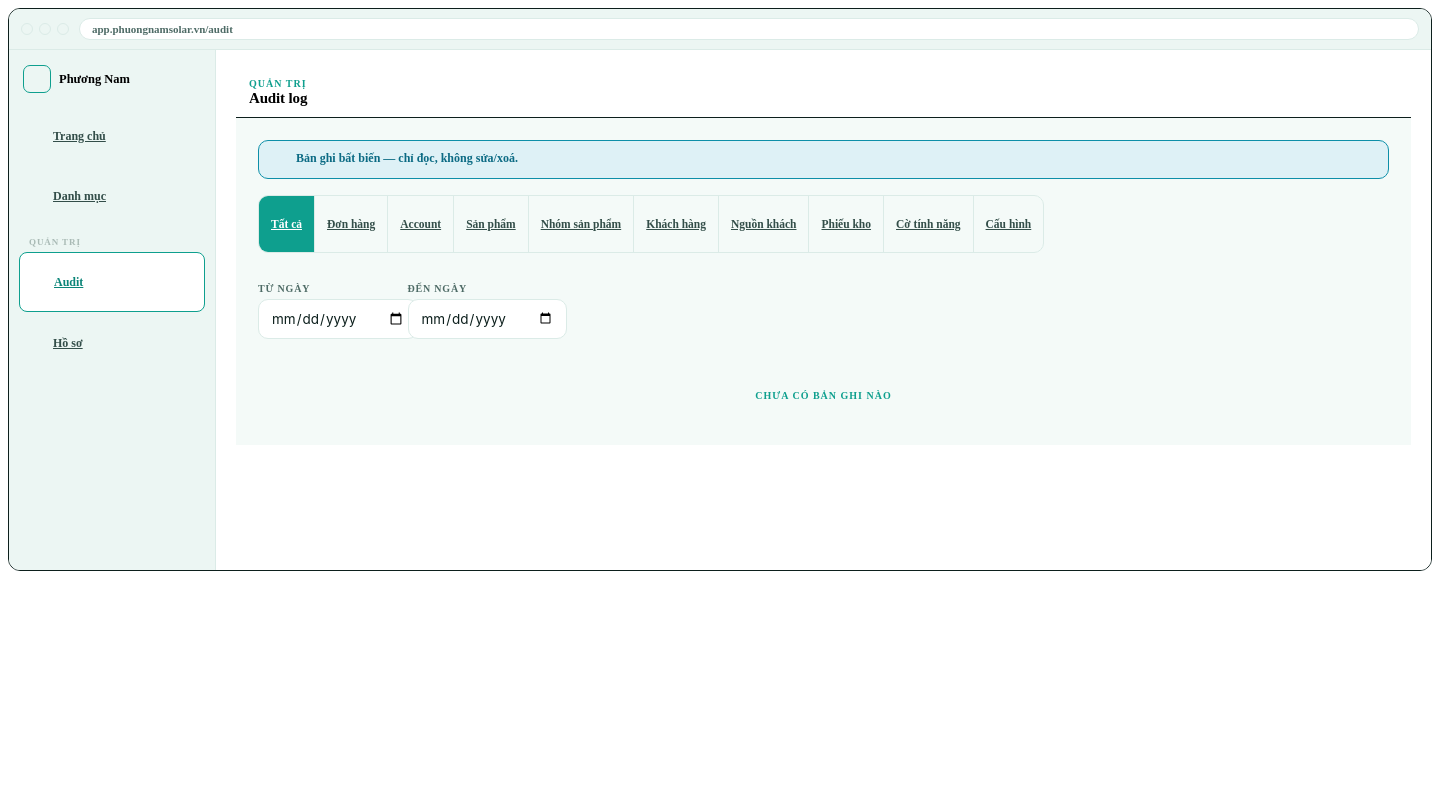
Test: AuditLogScreen › an empty book and an empty filtered view say different things
Expected: the text "Chưa có bản ghi nào" is shown, [755,390,892,401]
Click the link "Phiếu kho" at (847, 224), box [810,196,884,252]
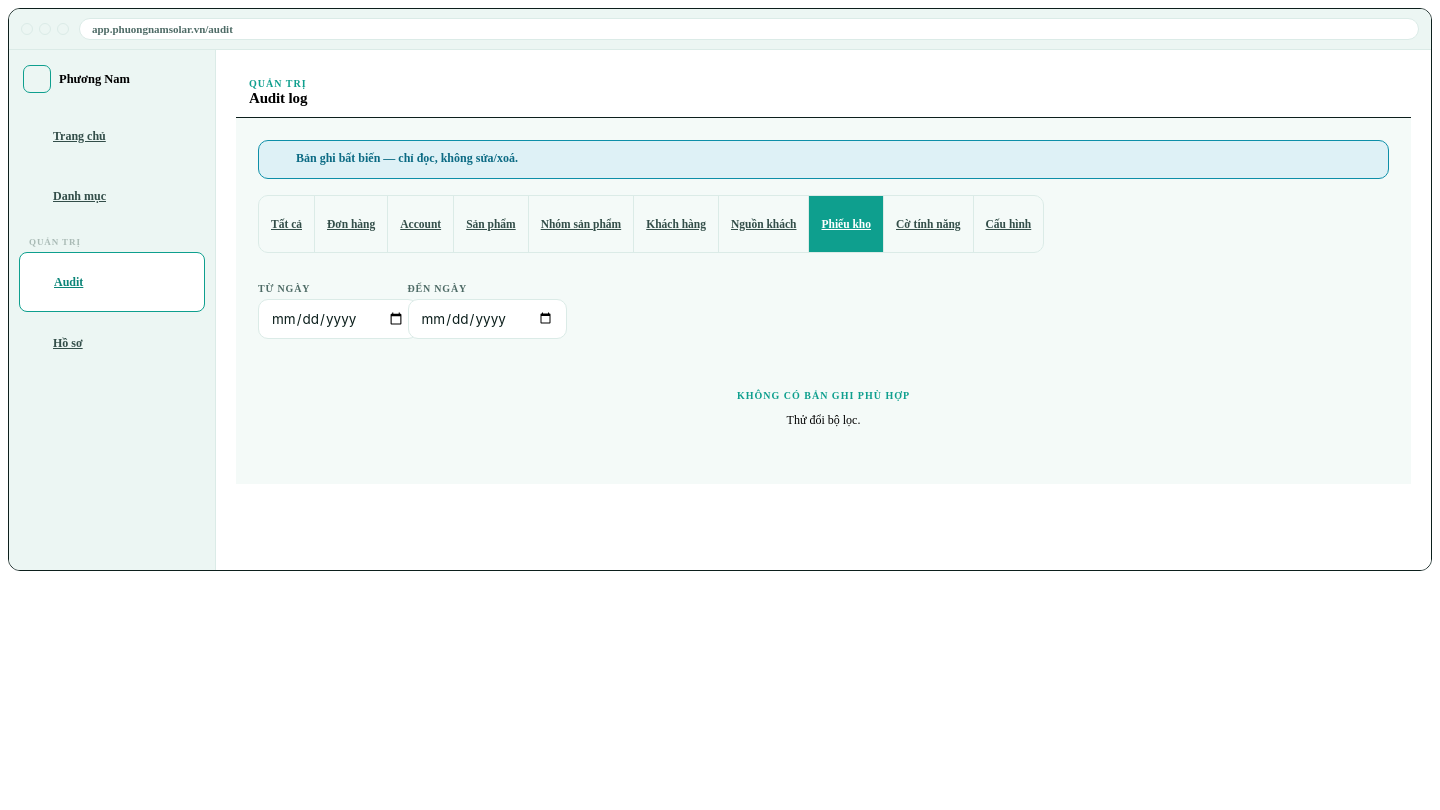
Now the text "Không có bản ghi phù hợp" is shown, box [737,390,910,401]
